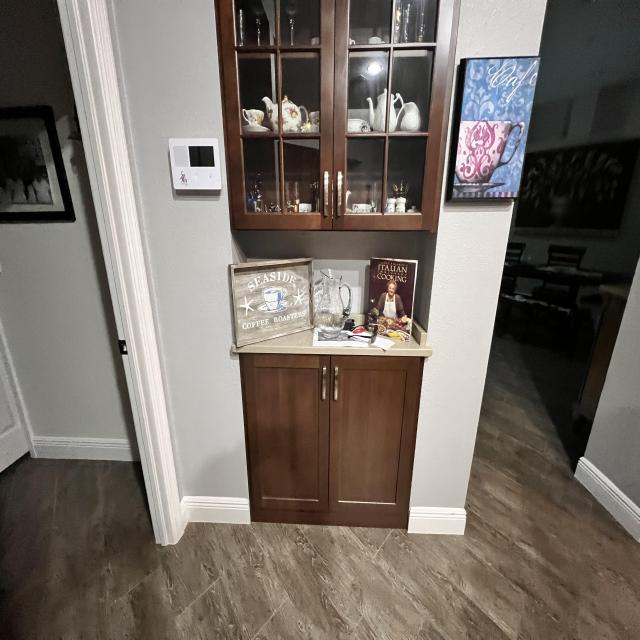Cabinet_Glass: (218, 2, 456, 236)
Cabinet_Shaker: (241, 354, 425, 532)
Countertop_Solid_Surface: (234, 331, 433, 357)
